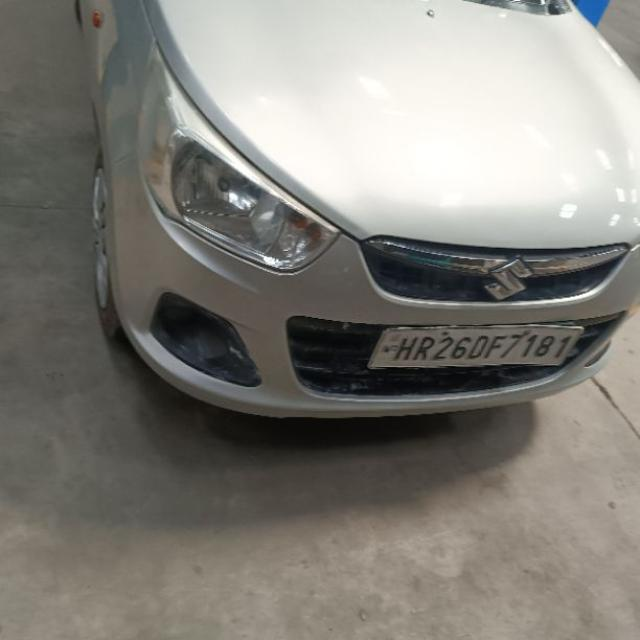license_plate: (366, 322, 584, 369)
